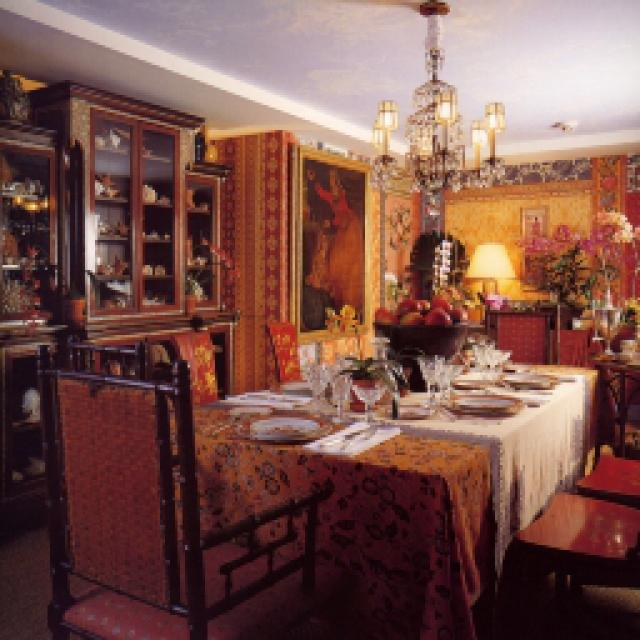bouquet: (520, 218, 618, 302)
ceiling beam: (45, 0, 638, 145)
ceiling lamps: (368, 0, 505, 212)
chair: (482, 308, 548, 358)
chair -occluded-: (38, 340, 332, 635)
chair crop: (165, 330, 218, 402), (262, 322, 298, 385)
chair top: (502, 490, 635, 580), (575, 452, 635, 498)
china cabinet: (0, 78, 230, 347)
fruits plate: (372, 292, 465, 385)
glass ceiling: (300, 365, 340, 405), (420, 362, 455, 405), (348, 382, 385, 420)
lamp crop: (455, 242, 518, 300)
napkin ring: (300, 420, 398, 455)
painting crop: (438, 180, 598, 298), (288, 140, 375, 335)
picture crop: (520, 205, 545, 238)
place mat: (212, 390, 305, 405)
plate food: (240, 410, 330, 440), (442, 392, 518, 412), (500, 370, 558, 388)
side: (590, 348, 638, 452)
table -X: (192, 355, 592, 635)
vase -X: (595, 290, 622, 350)
